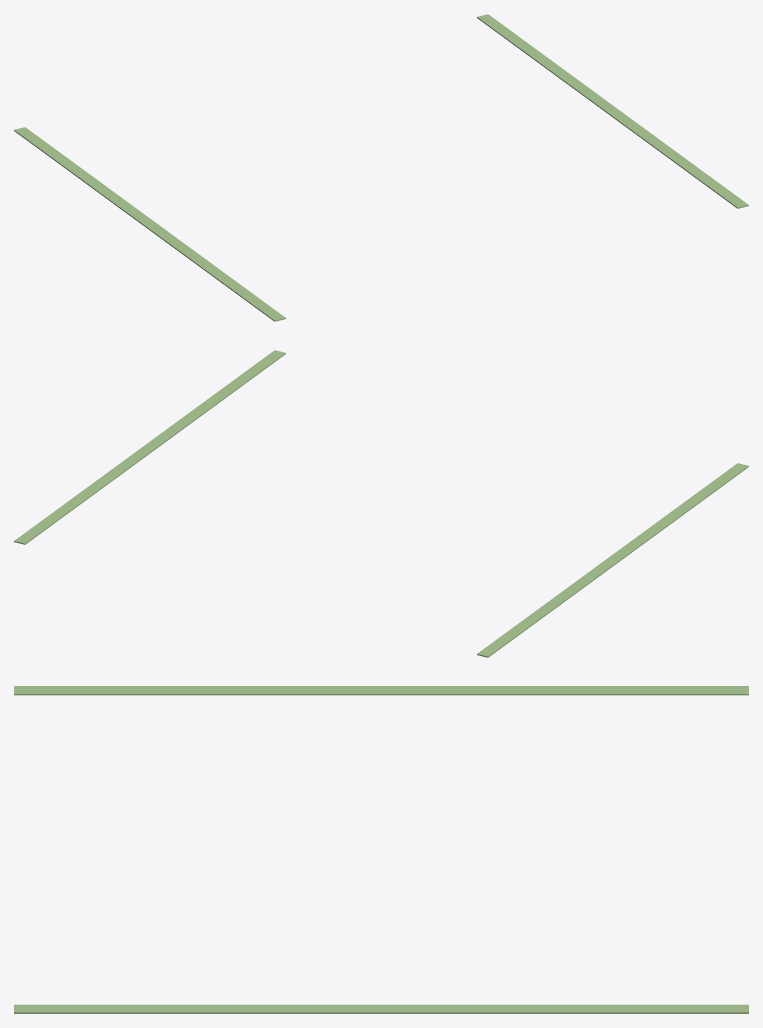
Rendered from lawn_m.glb.
The picture shows the model from 3 angles, top to bottom: view 1: azimuth 30°, elevation 25°; view 2: azimuth 150°, elevation 25°; view 3: azimuth 270°, elevation 25°; orthographic projection. The views are drawn at different scales.
Visible parts, largest first — view 1: lawn_m_grass; view 2: lawn_m_grass; view 3: lawn_m_grass.
Boxes of the visible parts, box(x1,y1,x2,y2) form: lawn_m_grass: box(14, 14, 748, 321); lawn_m_grass: box(14, 350, 748, 657); lawn_m_grass: box(14, 686, 748, 1013).
Bounding box in the file's own units: 12.6 × 0.028 × 12.
